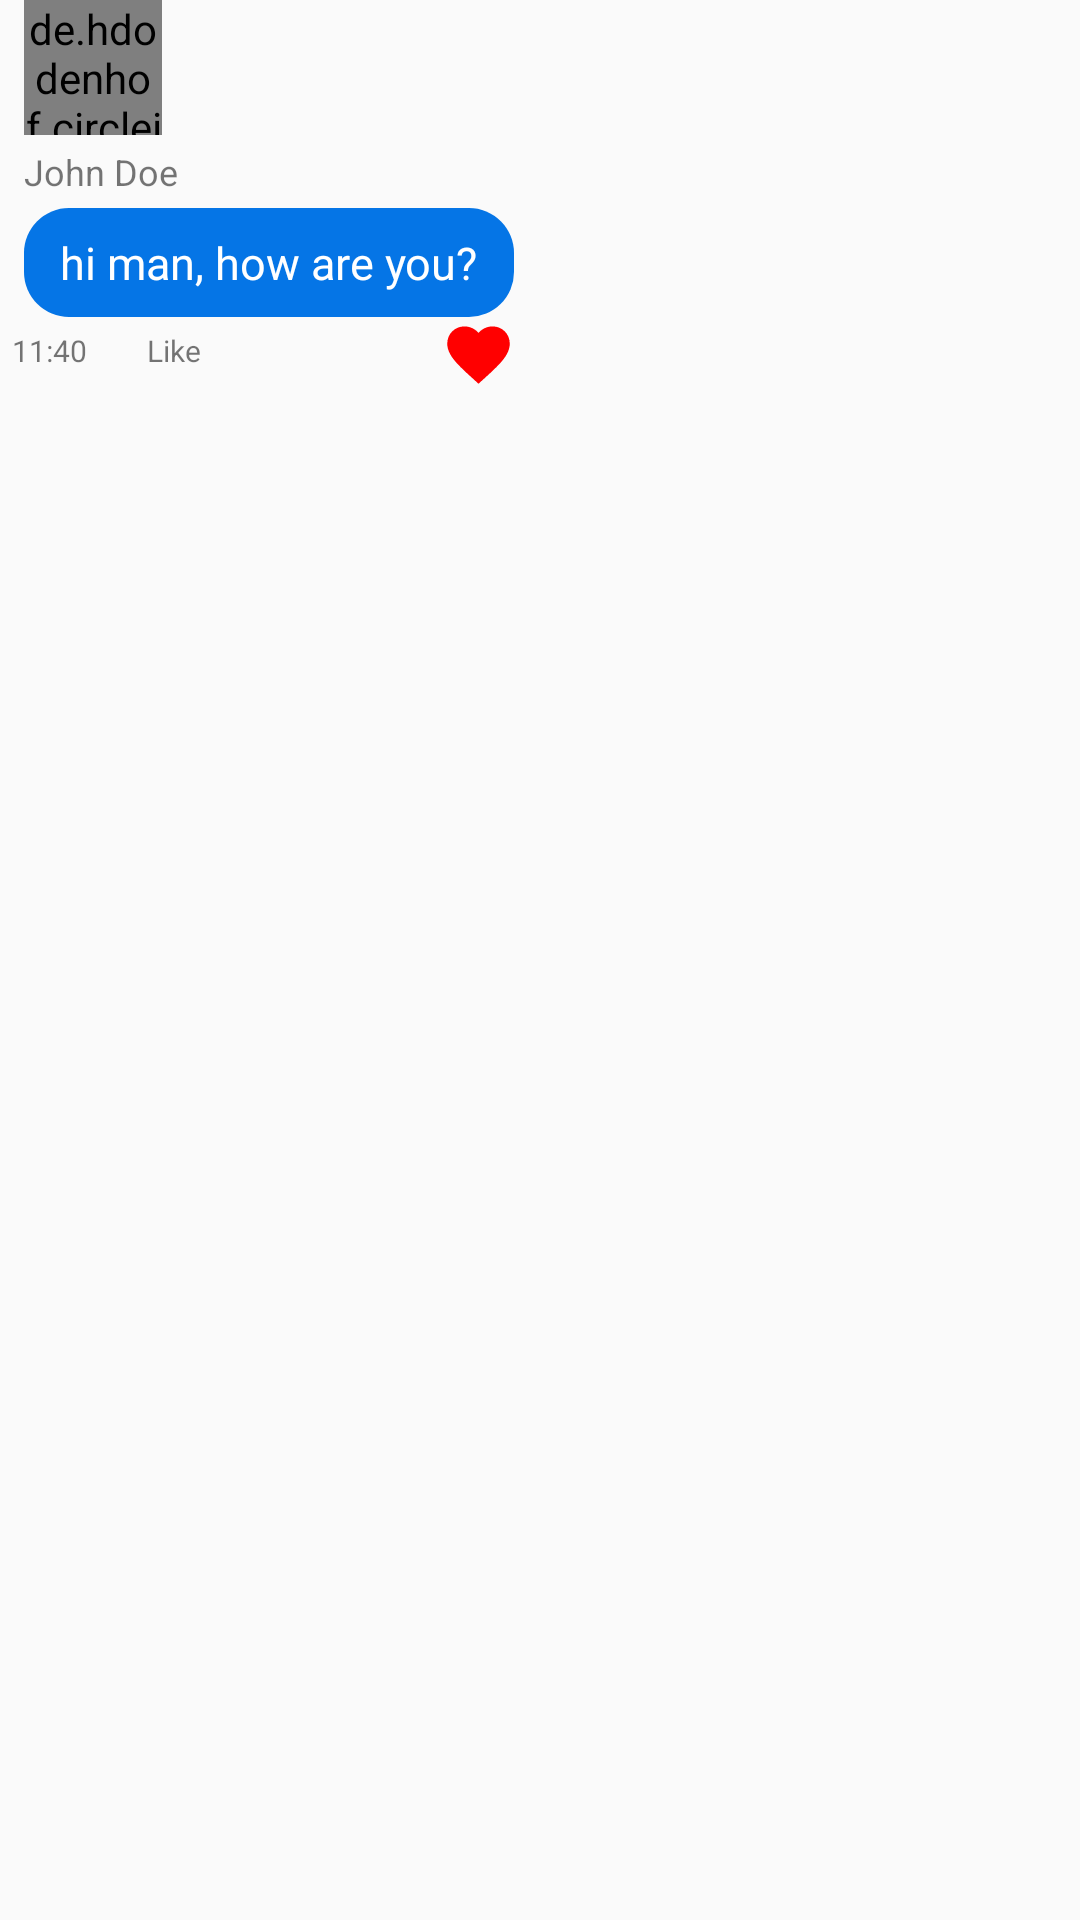

Screen size 1080x1920. Icon name, then its center in pixels as point (x, y):
heart: point (478, 355)
